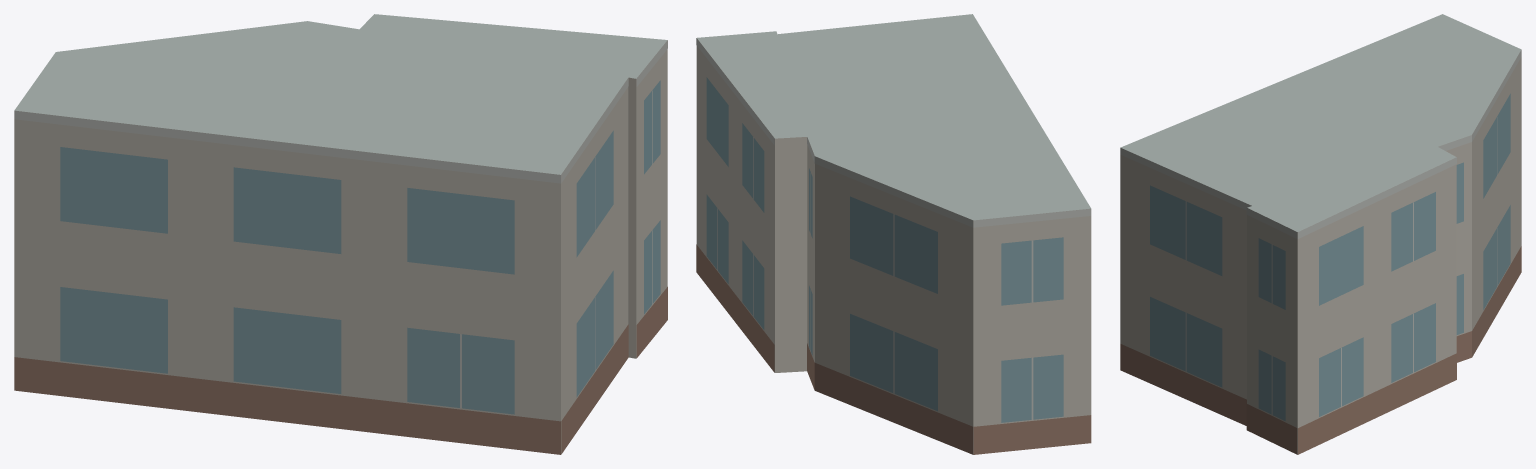
The model's file is survey-upis-32619259.glb.
The picture shows the model from 3 angles, left to right: view 1: azimuth 30°, elevation 25°; view 2: azimuth 150°, elevation 25°; view 3: azimuth 270°, elevation 25°; orthographic projection. The views are drawn at different scales.
Visible parts, largest first — view 1: survey-upis-32619259.tmp; view 2: survey-upis-32619259.tmp; view 3: survey-upis-32619259.tmp.
Part boxes in pixels (bbox=[...]): survey-upis-32619259.tmp: bbox=[14, 14, 667, 454]; survey-upis-32619259.tmp: bbox=[696, 14, 1091, 454]; survey-upis-32619259.tmp: bbox=[1120, 14, 1521, 454].
Bounding box in the file's own units: 16.41 × 7.8 × 12.75.
